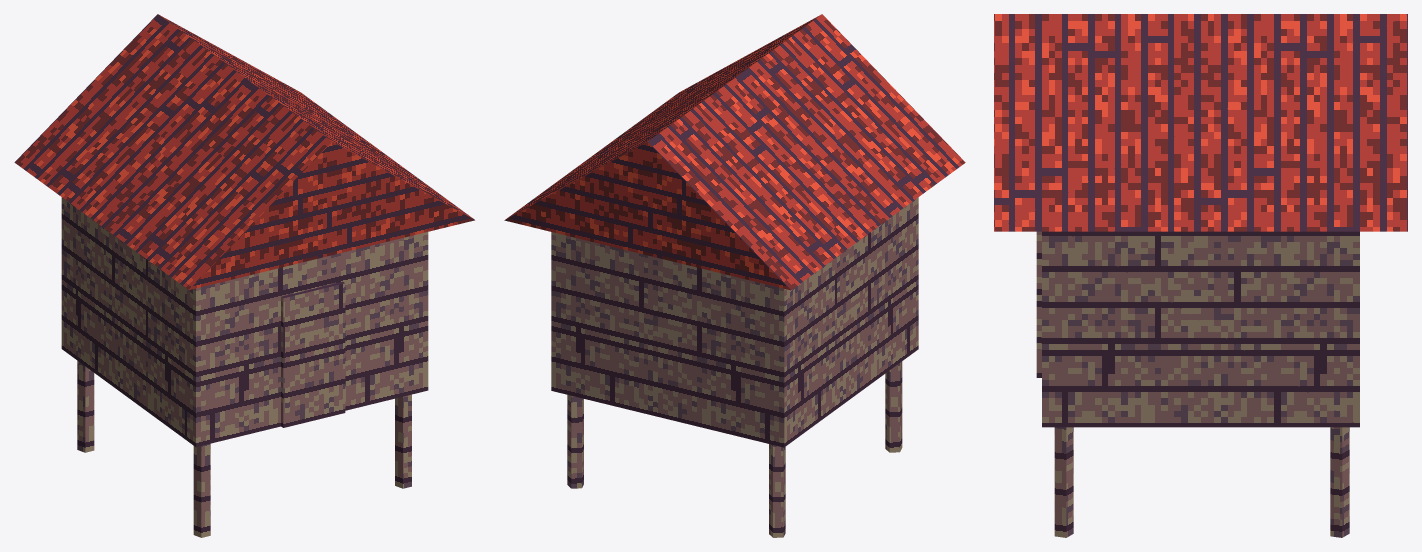
File: refugio_copas_cabana_arvore.glb
3 renders of one model, left to right at view 1: azimuth 30°, elevation 25°; view 2: azimuth 150°, elevation 25°; view 3: azimuth 270°, elevation 25°, orthographic. The views are drawn at different scales.
Visible parts, largest first — view 1: refugio_copas_cabana_arvore; view 2: refugio_copas_cabana_arvore; view 3: refugio_copas_cabana_arvore.
Boxes of the visible parts, x1,y1,x2,y2 form: refugio_copas_cabana_arvore: (14,14,474,537); refugio_copas_cabana_arvore: (504,14,965,537); refugio_copas_cabana_arvore: (994,14,1407,537).
Bounding box in the file's own units: 3.7 × 4.8 × 3.9.
2 materials, 2 textured.
